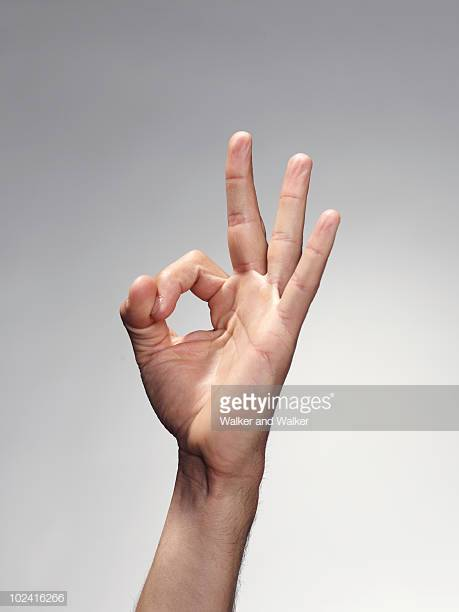oksign: (120, 132, 339, 444)
